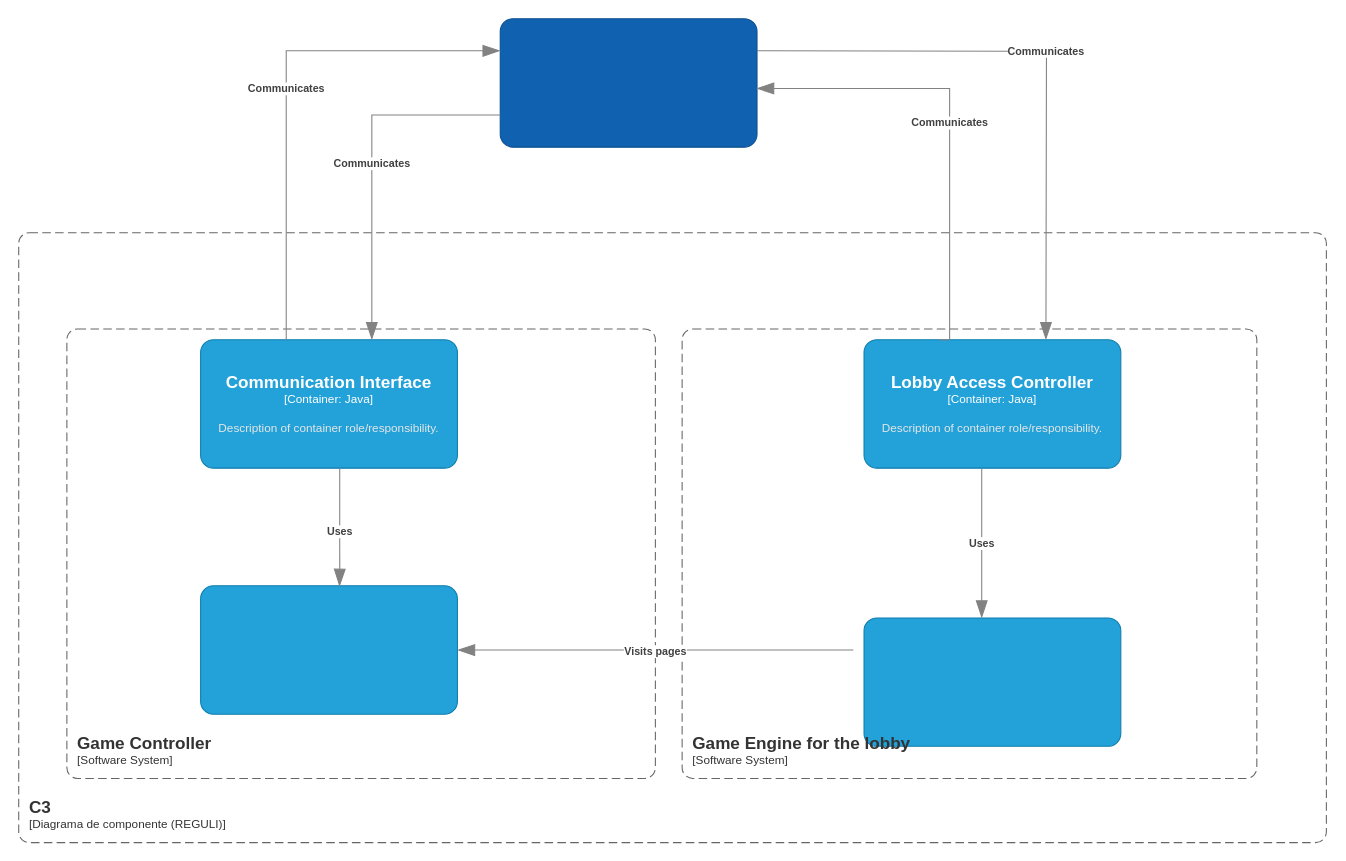
This 1346x861 diagram has some shape labels left out. Here are the shapes that lost their labels. From the top down, the centre of each, then its label:
At point (628, 82): "Comunication []".
At point (328, 649): "Game Logic [Container: Java] Description of container role/responsibility.".
At point (992, 681): "Lobby Manager [Container: Java] Description of container role/responsibility.".
